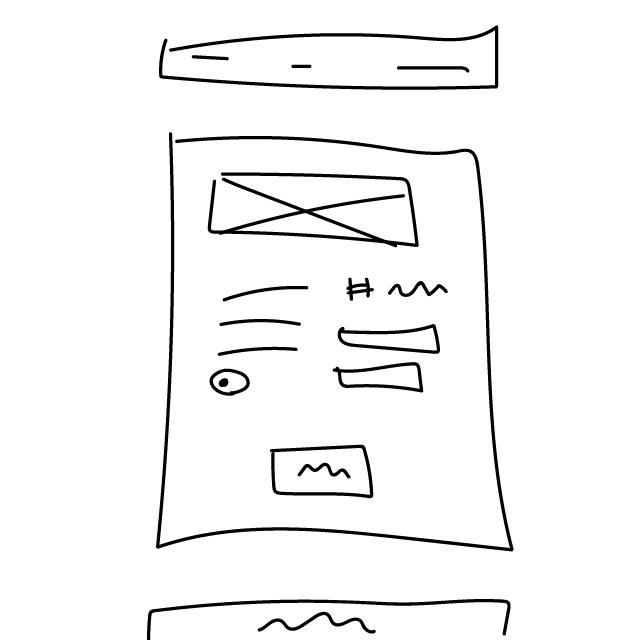button: (266, 442, 382, 501)
checkbox: (208, 367, 255, 396)
container: (155, 123, 525, 563)
footer: (143, 594, 515, 640)
frame: (206, 166, 425, 250)
heading: (346, 274, 456, 307)
input: (337, 320, 449, 358), (334, 362, 433, 393)
nav: (158, 21, 503, 100)
text: (212, 280, 312, 360)
